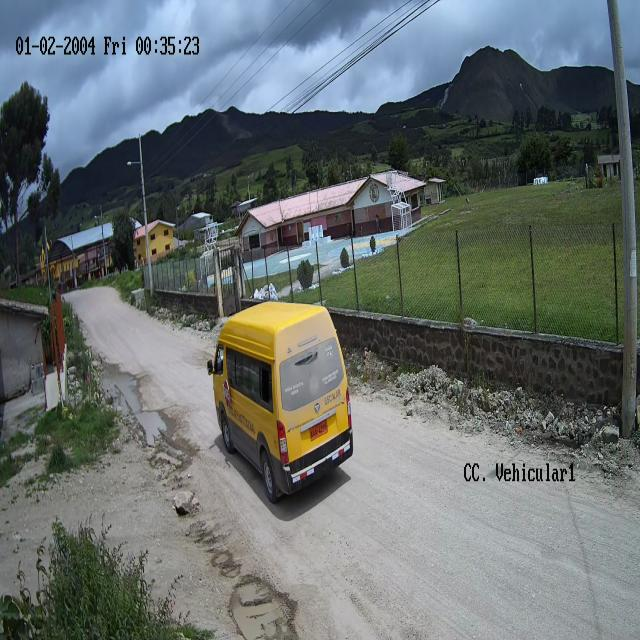BUS: (208, 302, 355, 504)
